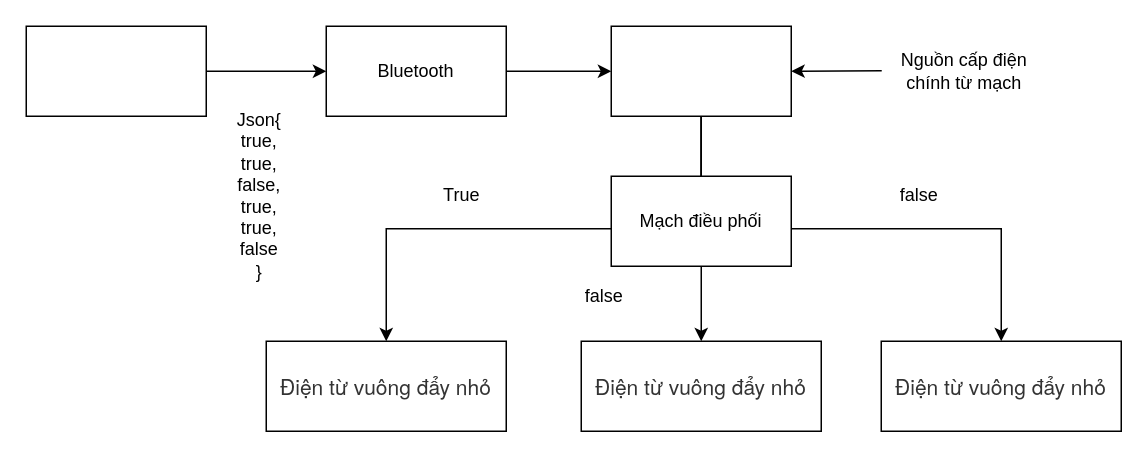
This 1148x458 diagram has some shape labels left out. Here are the shapes that lost their labels. From the top down, the box of each, then its label:
(25, 25, 206, 116): Phần mềm
(610, 25, 791, 116): ESP32
